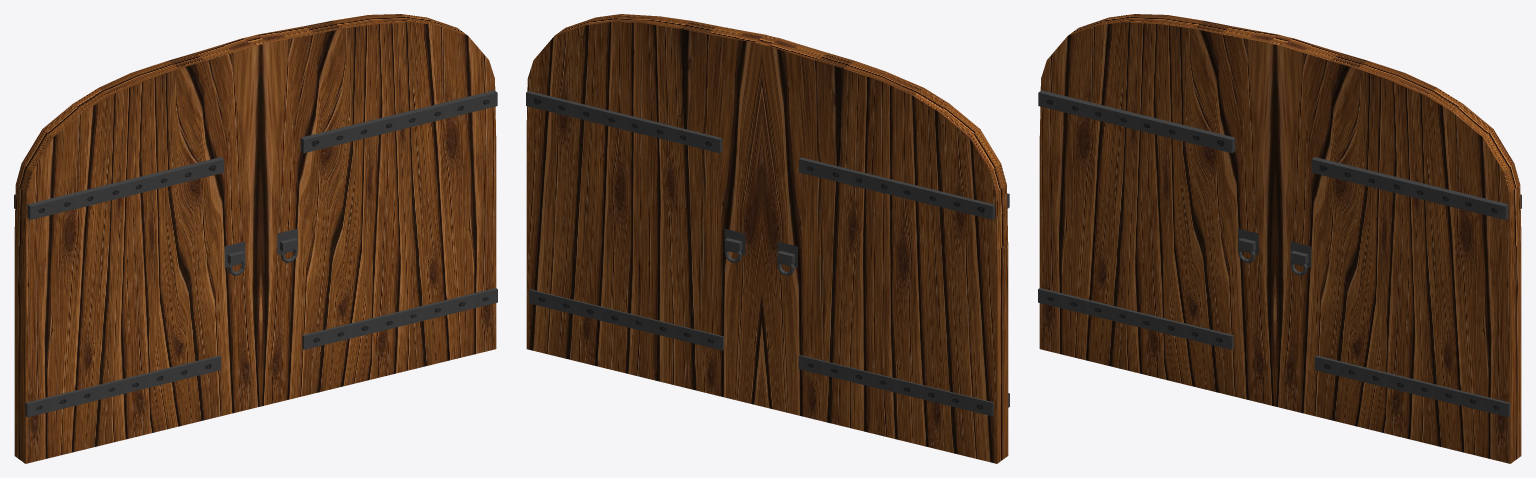
Rendered from Door2Tiles1Closed.glb.
The picture shows the model from 3 angles, left to right: view 1: azimuth 30°, elevation 25°; view 2: azimuth 150°, elevation 25°; view 3: azimuth 330°, elevation 25°; orthographic projection.
Visible parts, largest first — view 1: Cube.002; view 2: Cube.002; view 3: Cube.002.
Part boxes in pixels (x1,y1,x2,y2): Cube.002: (14, 14, 497, 463); Cube.002: (526, 14, 1009, 463); Cube.002: (1038, 14, 1521, 463).
Bounding box in the file's own units: 1.36 × 1 × 0.0885.
3 materials, 3 textured.
